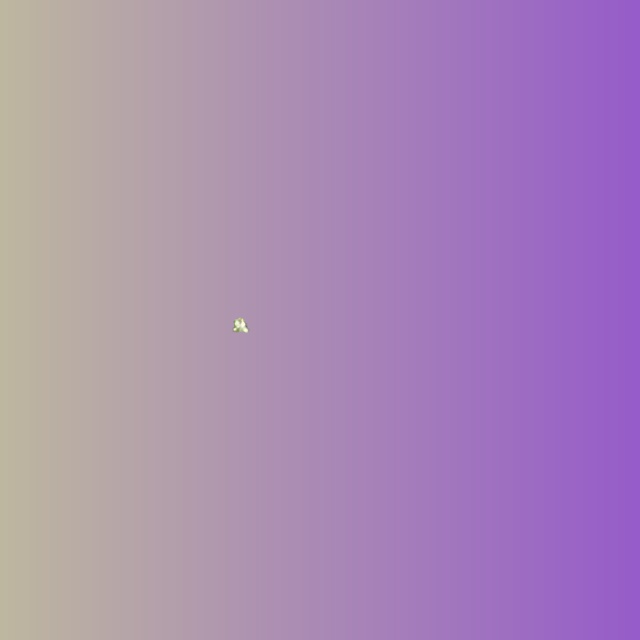jasmine: (233, 318, 248, 332)
